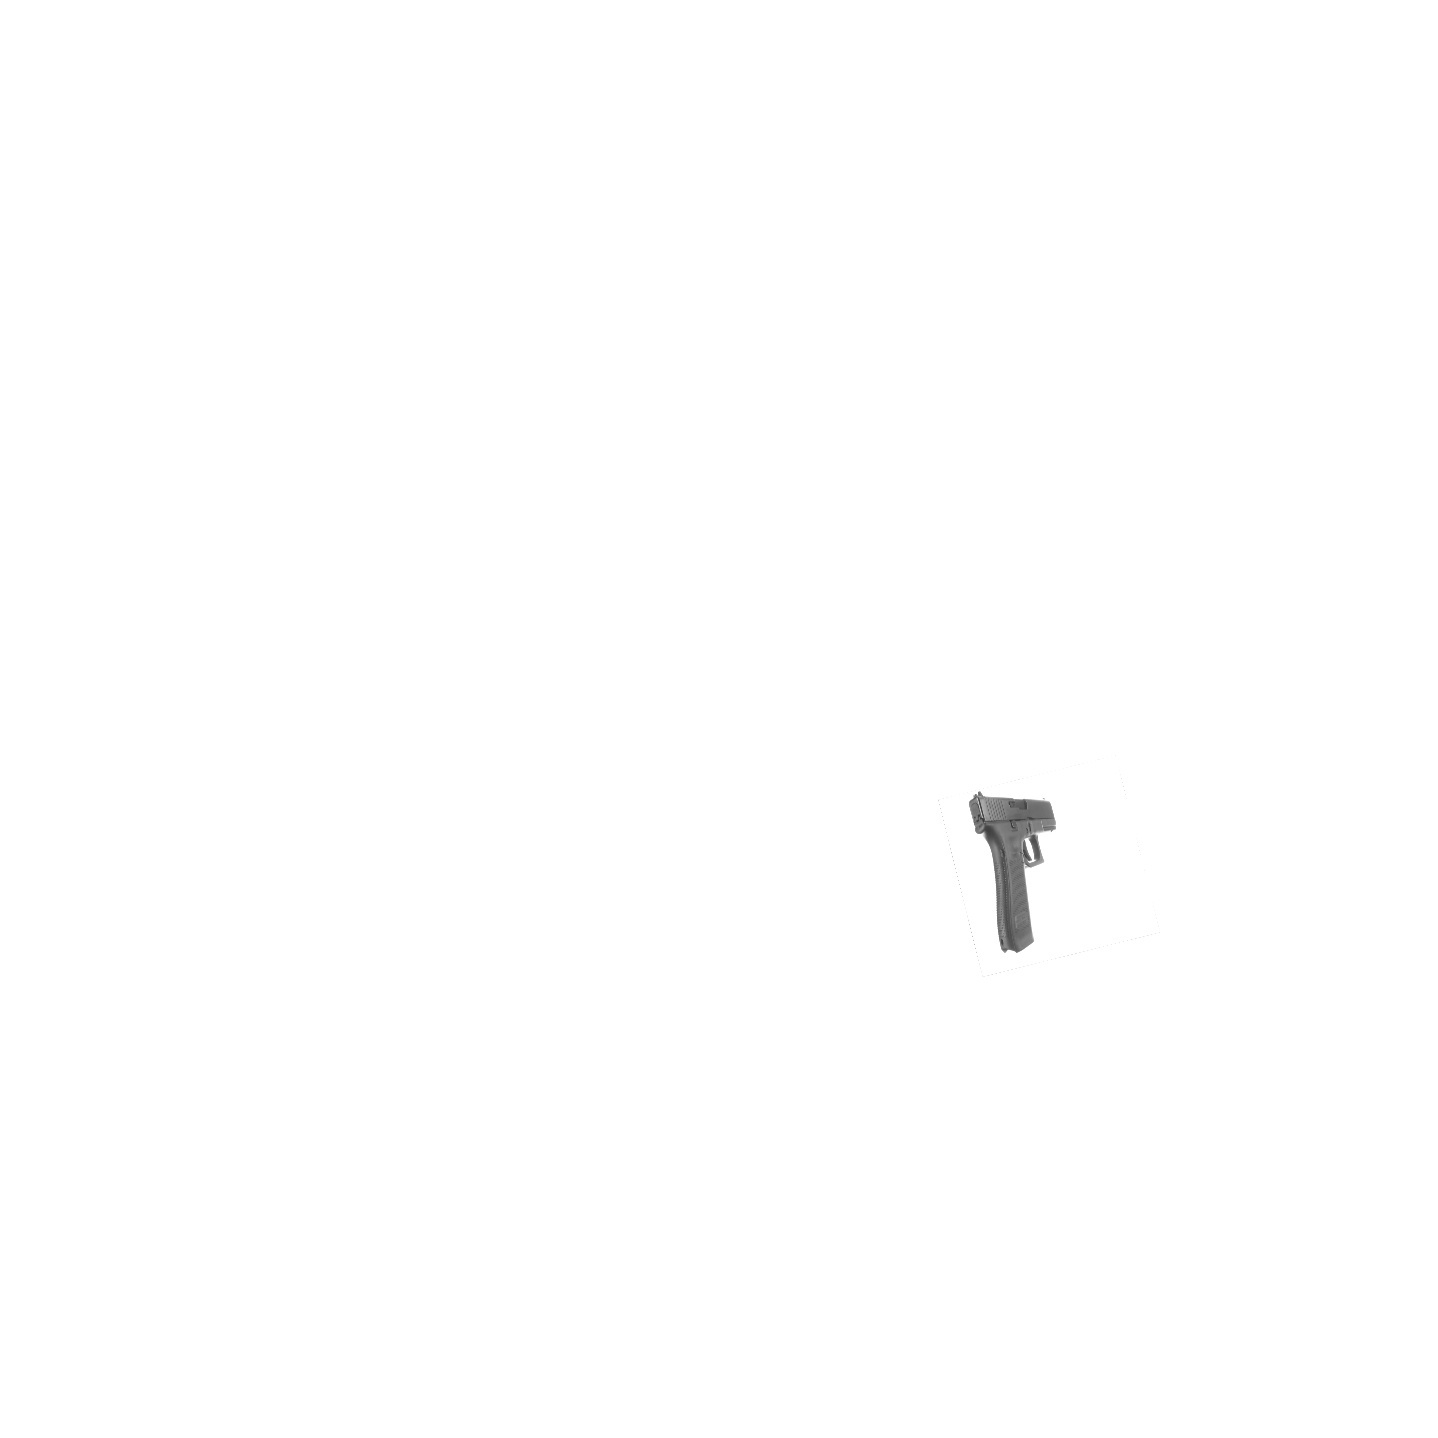gun: (961, 782, 1065, 957)
